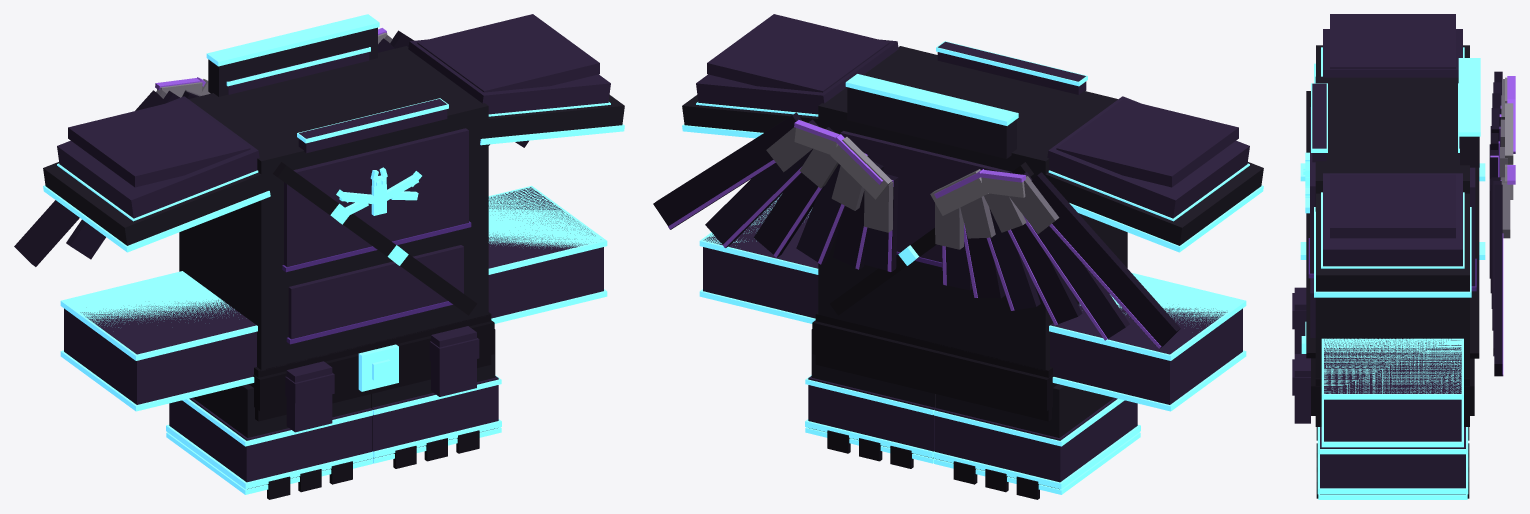
3 renders of one model, left to right at view 1: azimuth 30°, elevation 25°; view 2: azimuth 150°, elevation 25°; view 3: azimuth 270°, elevation 25°, orthographic. The views are drawn at different scales.
Parts seen in each view (by area): view 1: nightwing-leathers; view 2: nightwing-leathers; view 3: nightwing-leathers.
Boxes of the visible parts, x1,y1,x2,y2 form: nightwing-leathers: [14, 14, 624, 499]; nightwing-leathers: [653, 14, 1263, 499]; nightwing-leathers: [1292, 14, 1515, 499].
Size of the model in its own units: 1.27 by 0.8715 by 0.496.
